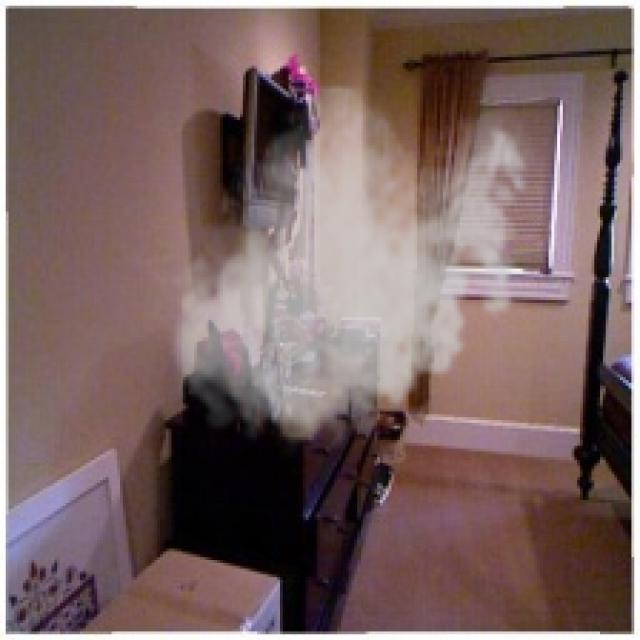Smoke: (165, 82, 540, 458)
